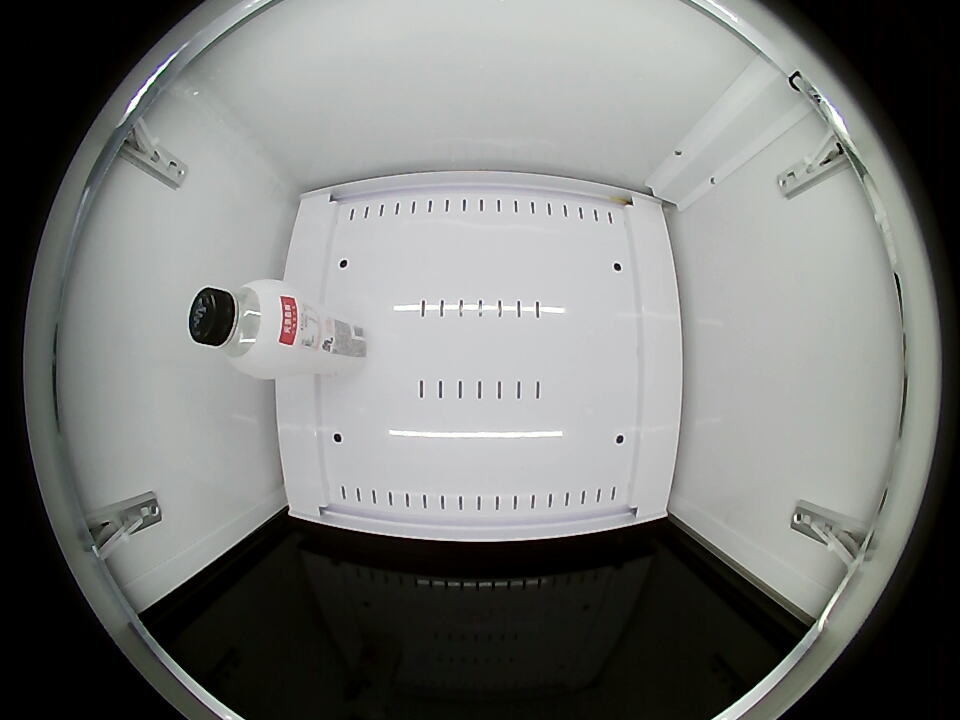yuanqishui: (189, 280, 301, 378)
